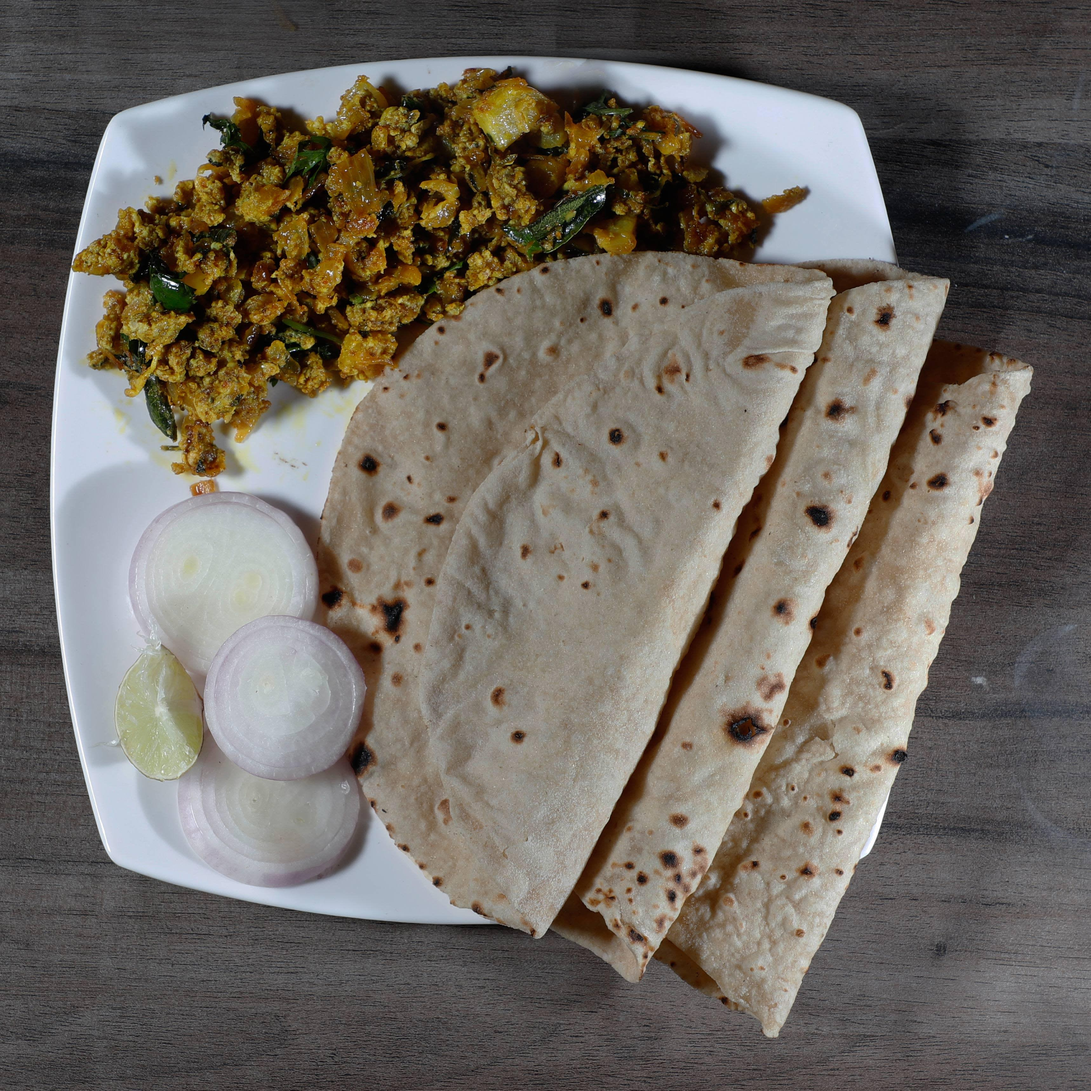roti: (313, 254, 1022, 1045)
